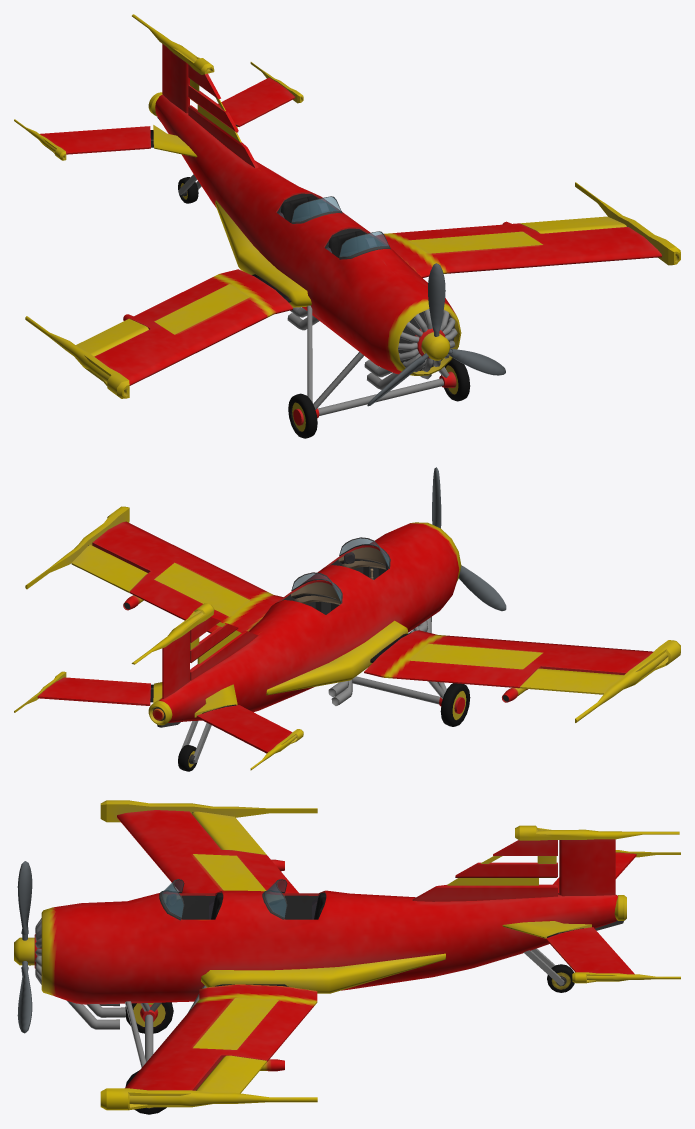
Rendered from stunt-plane.glb.
The picture shows the model from 3 angles, top to bottom: view 1: azimuth 30°, elevation 25°; view 2: azimuth 150°, elevation 25°; view 3: azimuth 270°, elevation 25°; orthographic projection. The views are drawn at different scales.
Visible parts, largest first — view 1: stuntplane, Prop; view 2: stuntplane, Prop; view 3: stuntplane, Prop.
Part boxes in pixels (x1,y1,x2,y2): stuntplane: [14, 14, 680, 438]; Prop: [367, 263, 505, 406]; stuntplane: [14, 506, 680, 771]; Prop: [432, 467, 506, 611]; stuntplane: [14, 800, 680, 1114]; Prop: [17, 861, 32, 1033].
Size of the model in its own units: 8.47 by 3.28 by 8.05.
Materials: 3 (1 with a texture image).
